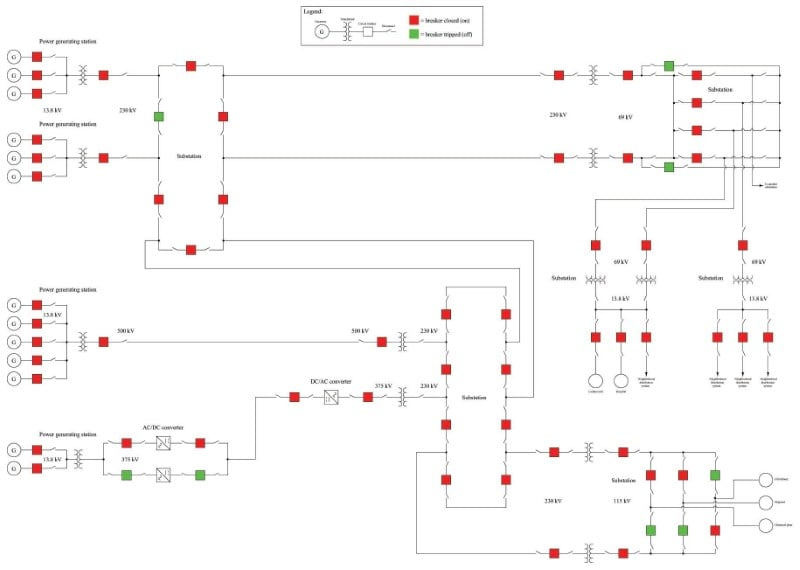switch: (632, 421, 647, 459), (114, 147, 137, 170), (259, 386, 285, 403), (114, 66, 136, 85), (211, 172, 231, 190), (154, 83, 167, 106), (216, 207, 233, 224), (531, 67, 550, 82), (531, 440, 543, 463), (217, 87, 230, 108), (153, 207, 168, 223), (155, 125, 169, 142), (303, 390, 320, 404), (44, 171, 63, 183), (638, 219, 652, 235), (164, 243, 184, 254), (45, 133, 62, 145), (217, 125, 229, 141), (46, 50, 61, 62), (44, 151, 62, 161), (153, 173, 164, 189), (564, 441, 574, 458), (45, 69, 60, 79), (442, 290, 452, 305), (345, 391, 358, 402), (201, 244, 215, 254), (591, 220, 601, 234), (570, 68, 580, 81), (590, 257, 603, 267), (46, 88, 62, 96), (607, 70, 618, 81), (501, 291, 509, 305), (646, 71, 660, 79)
transformer: (73, 324, 96, 363), (73, 57, 93, 88), (584, 58, 604, 89), (392, 325, 412, 354), (579, 539, 599, 567), (584, 142, 602, 172), (581, 433, 596, 469), (629, 272, 661, 288), (581, 271, 612, 287), (730, 271, 758, 287), (72, 444, 87, 473), (396, 384, 411, 410), (76, 145, 89, 173)
